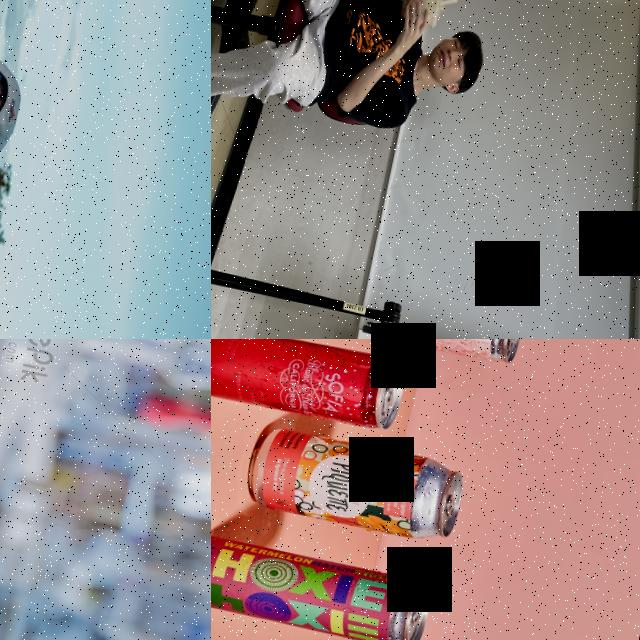can: (240, 422, 468, 548), (211, 531, 436, 640), (211, 339, 409, 433), (295, 339, 528, 368)
cup: (397, 0, 443, 30)
